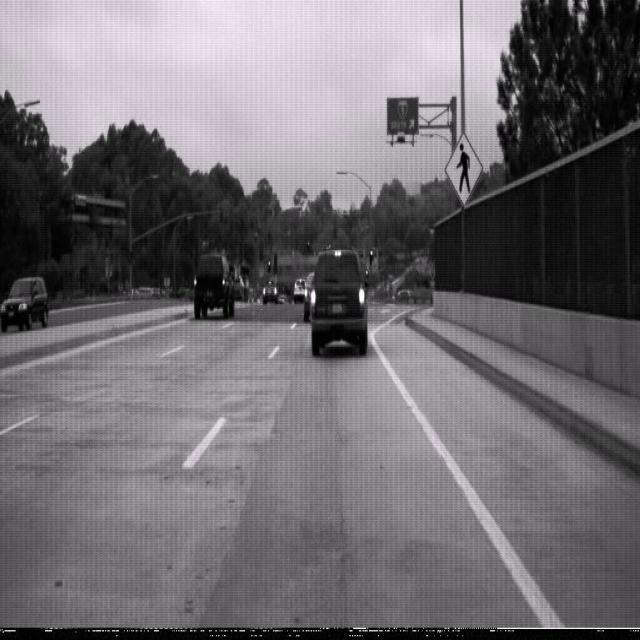pedestrianCrossing: (444, 129, 484, 207)
